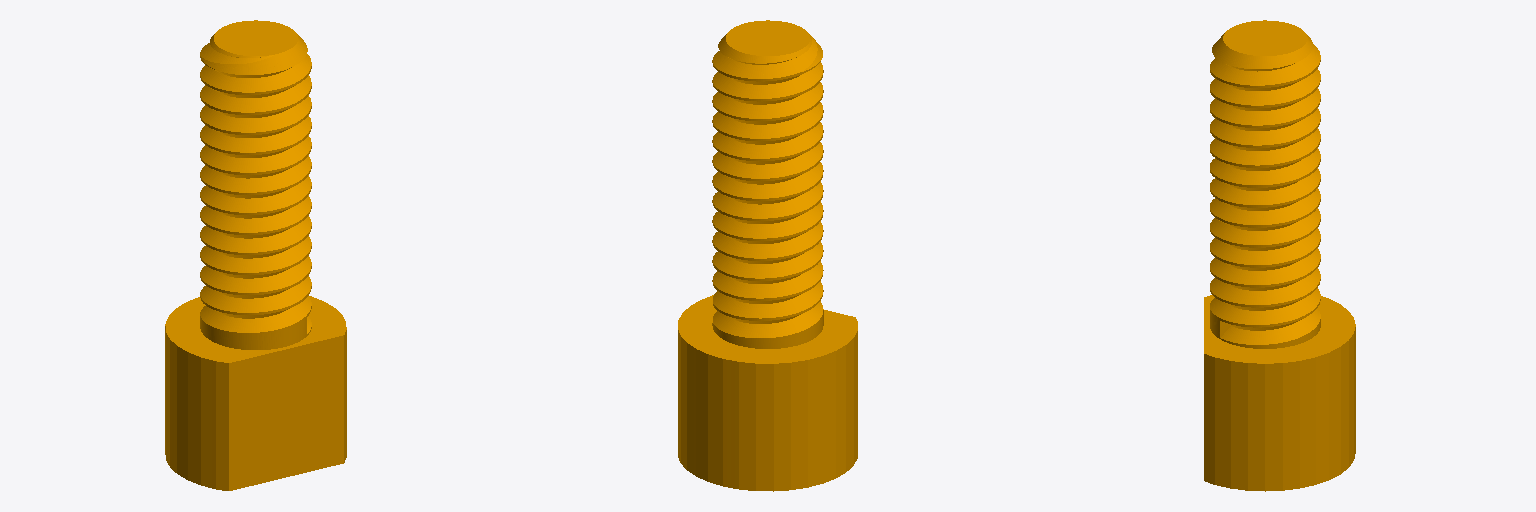
robot.urdf — bolt3:
<?xml version="1.0"?>
<robot name="bolt3">
    <link name="bolt3">
        <visual>
            <geometry>
                <mesh filename="../mesh/bolt/bolt3.obj"/>
            </geometry>
        </visual>
        <collision>
            <geometry>
                <mesh filename="../mesh/bolt/bolt3.obj"/>
            </geometry>
            <sdf resolution="512"/>
        </collision>
    </link>
</robot>

--- Render facts (derived) ---
3 views of the same robot in one strip: view 1: azimuth 30°, elevation 25°; view 2: azimuth 150°, elevation 25°; view 3: azimuth 270°, elevation 25° (orthographic).
Model bolt3 with 1 links and 0 joints (none), rooted at bolt3, posed all joints at 0.
Visible links, largest first — view 1: bolt3; view 2: bolt3; view 3: bolt3.
Link boxes in pixels (bbox=[...]): bolt3: bbox=[165, 20, 346, 490]; bolt3: bbox=[678, 20, 857, 491]; bolt3: bbox=[1204, 20, 1355, 491].
Bounding box of the posed robot: 0.034 × 0.0285 × 0.086 m (x, y, z).
Meshes: 1 distinct files referenced, 1 mesh visuals loaded (1 OBJ).
